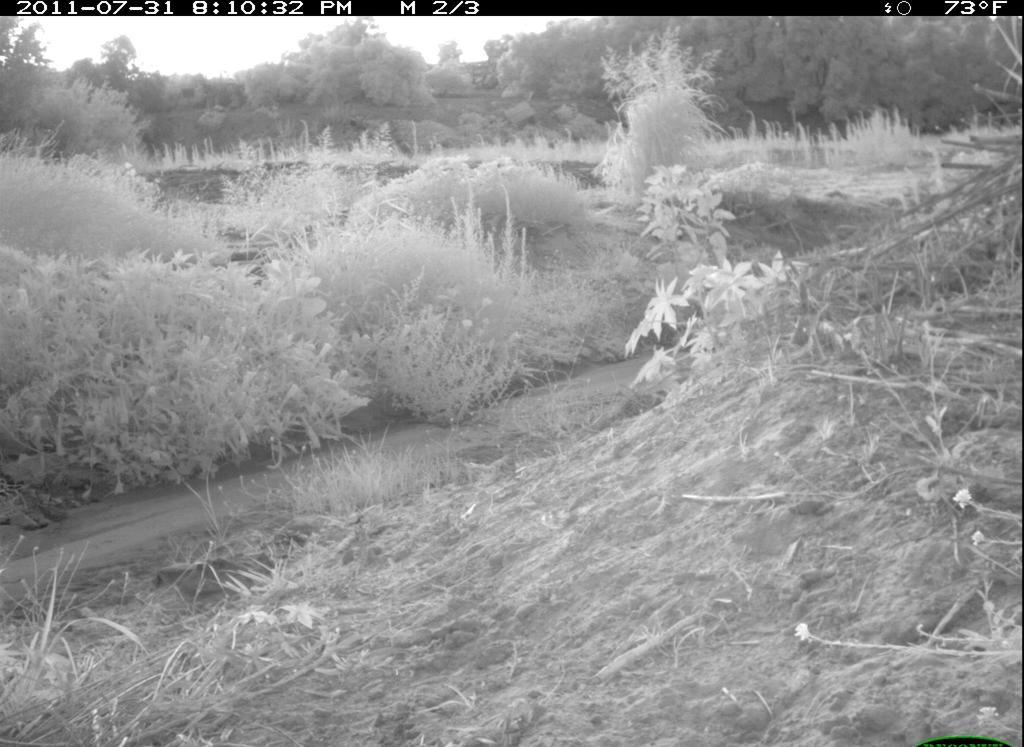bird: (36, 499, 78, 535)
